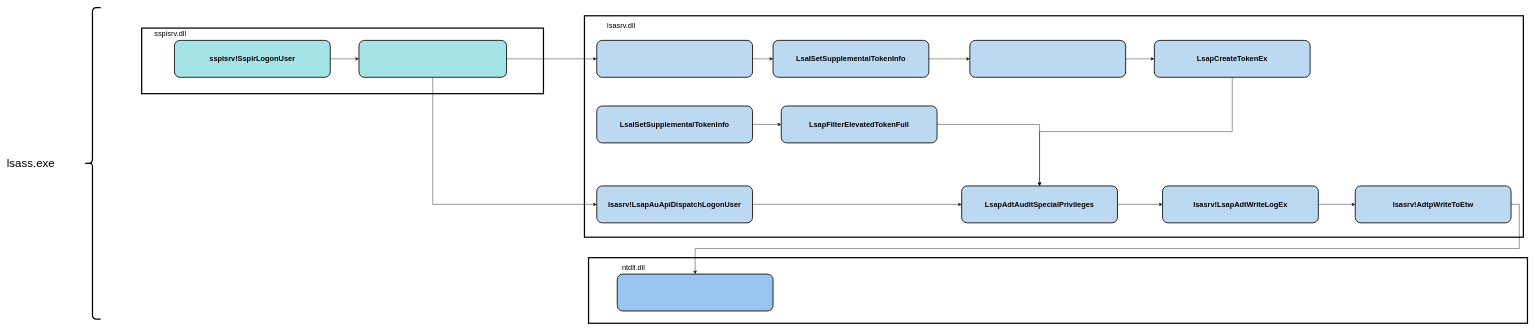
The diagram is 1535 pixels wide and 334 high, and some of its shapes have lost their labels. The shapes that lost their labels are listed below. From the top down, each one's centre as x and y in pixels, then its label:
At point (432, 58): "sspisrv!SspiExLogonUser".
At point (674, 58): "LsaConvertAuthDataToToken".
At point (1047, 58): "LsapCreateToken".
At point (695, 292): "ntdll!EtwWriteUMSecurityEvent".
